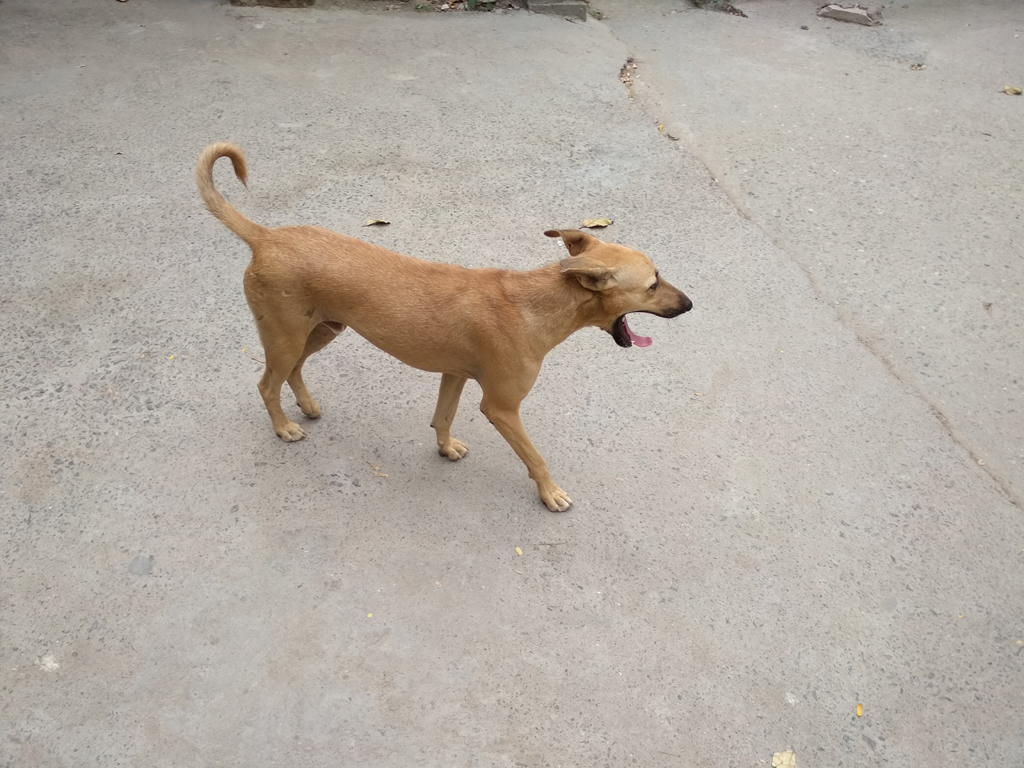dog: (196, 143, 696, 506)
